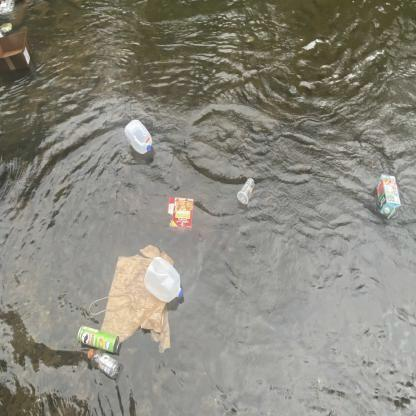Metal: (73, 317, 123, 356)
Plastic: (140, 254, 186, 306), (82, 345, 124, 381), (123, 117, 157, 161), (165, 196, 195, 229), (233, 176, 258, 212), (0, 0, 17, 18)
Trash: (92, 242, 183, 359)
